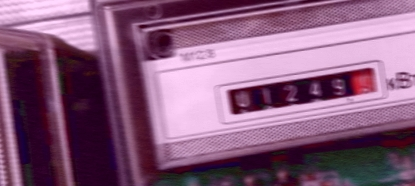0: (234, 90, 250, 111)
1: (259, 87, 271, 107)
2: (283, 84, 298, 106)
4: (308, 81, 321, 101)
7: (355, 70, 369, 90)
9: (331, 78, 346, 100)
screen: (207, 61, 386, 126)
